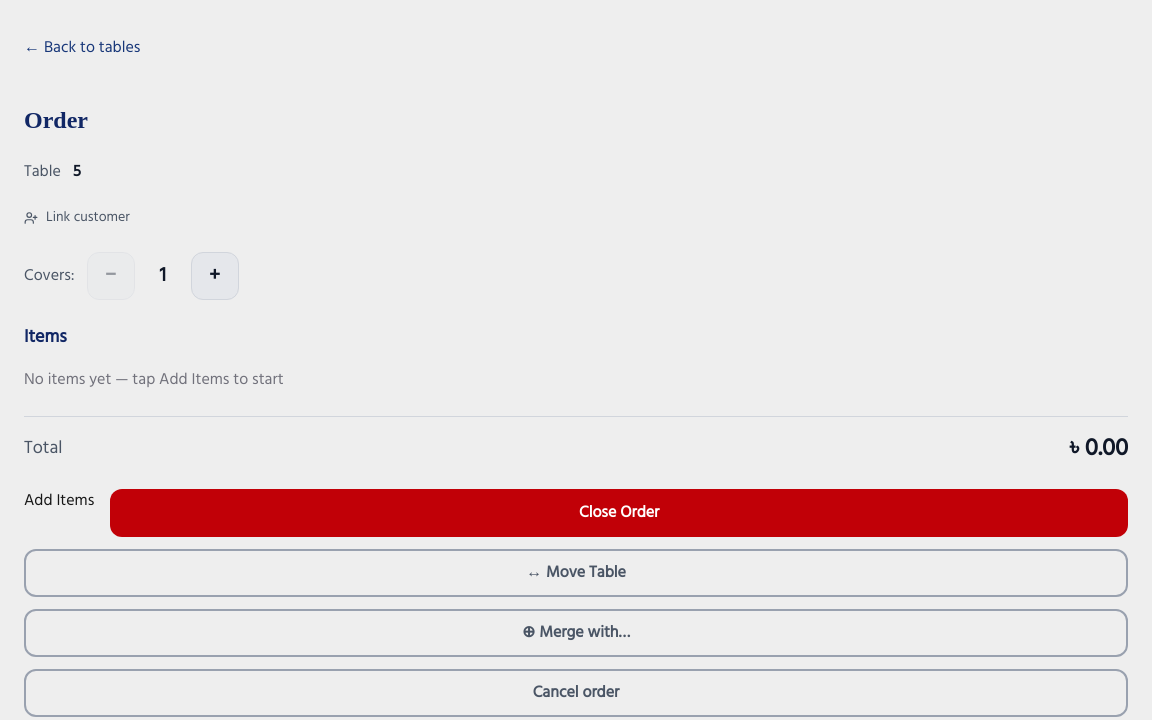
Scenario: OrderDetailClient › cancel order › Confirm Cancel is enabled after typing a reason
Step 1. Click the button "Cancel order" → (576,693), box 24,669 -> 1128,717
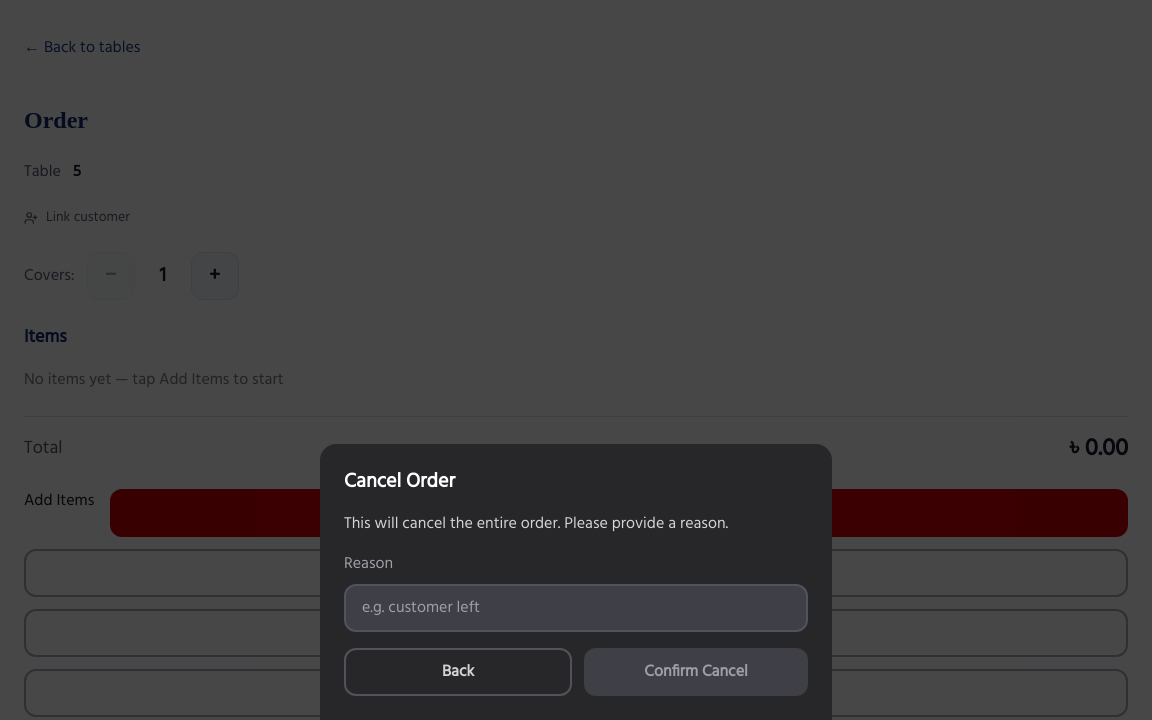
Step 2. Type "customer left" into the field with placeholder "e.g. customer left" → (576,608), box 344,584 -> 808,632
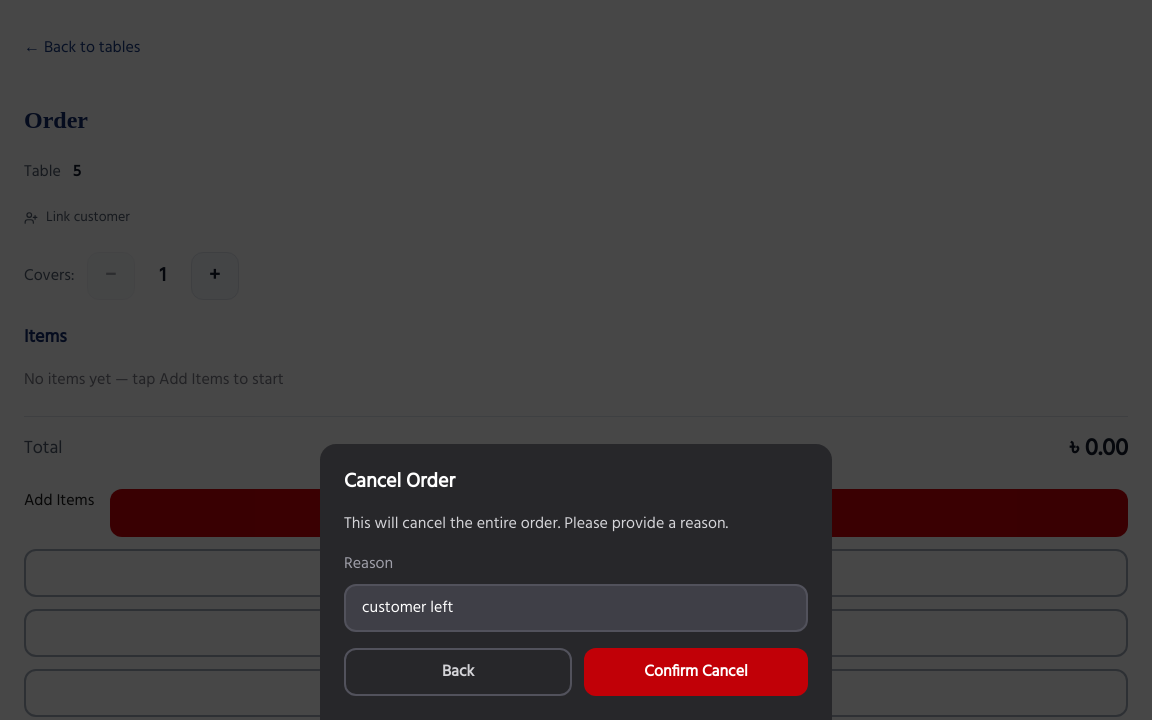
Now the button "Confirm Cancel" is enabled, box 584,648 -> 808,696
